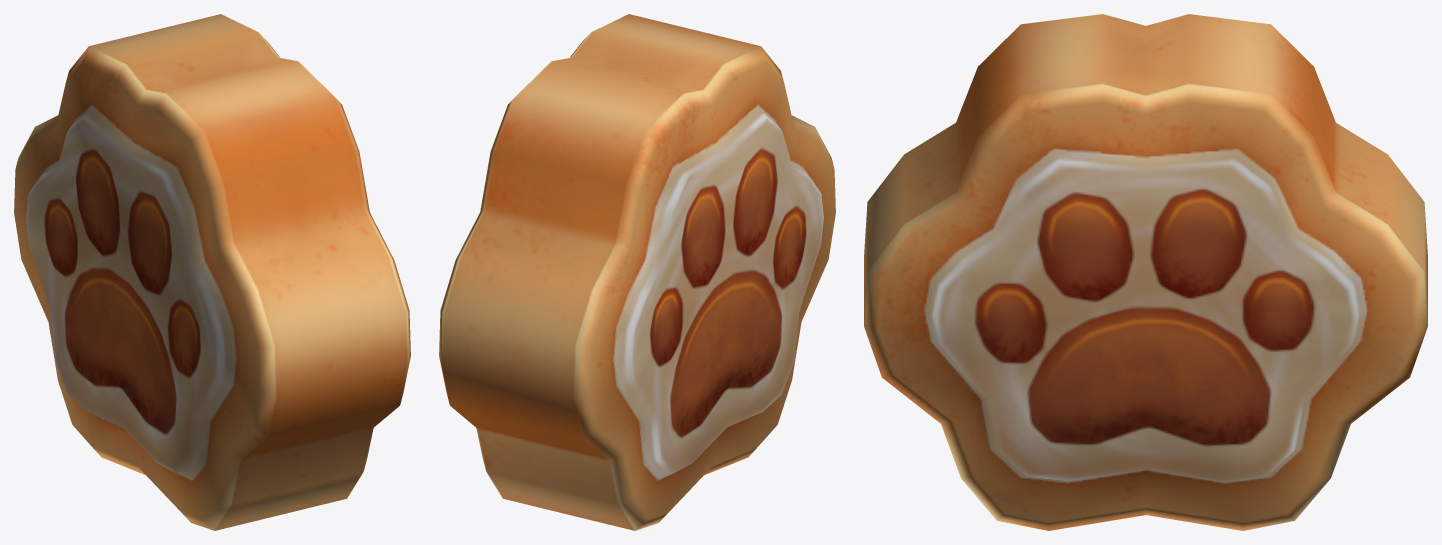
Rendered from DogBiscuits.fbx.
3 views of the same model, side by side, from view 1: azimuth 30°, elevation 25°; view 2: azimuth 150°, elevation 25°; view 3: azimuth 270°, elevation 25° (orthographic). The views are drawn at different scales.
Visible parts, largest first — view 1: DogBiscuits; view 2: DogBiscuits; view 3: DogBiscuits.
Part boxes in pixels (x1=…): DogBiscuits: x1=14, y1=14, x2=410, y2=530; DogBiscuits: x1=439, y1=14, x2=835, y2=530; DogBiscuits: x1=864, y1=14, x2=1427, y2=530.
Size of the model in its own units: 38.8 by 84.37 by 96.5.
